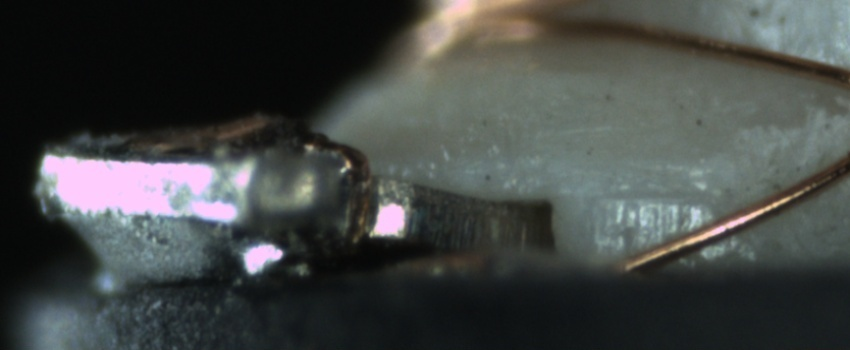DL: (567, 162, 724, 226)
TE: (311, 130, 383, 262)
